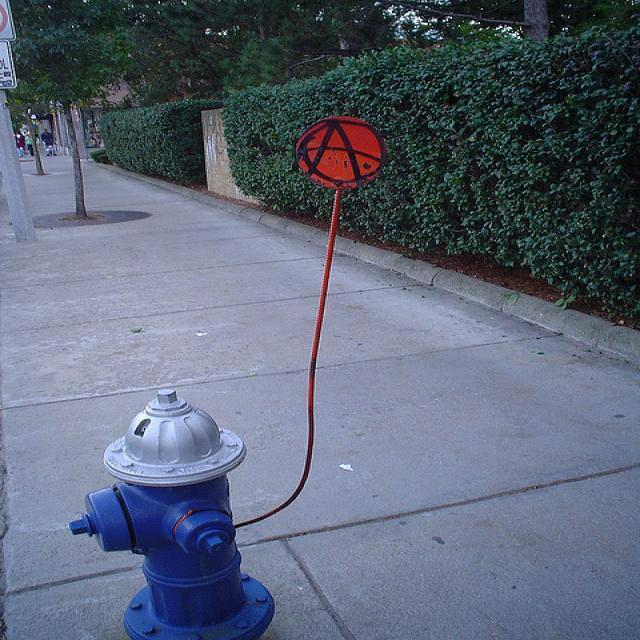fire_hydrant: (72, 391, 279, 634)
